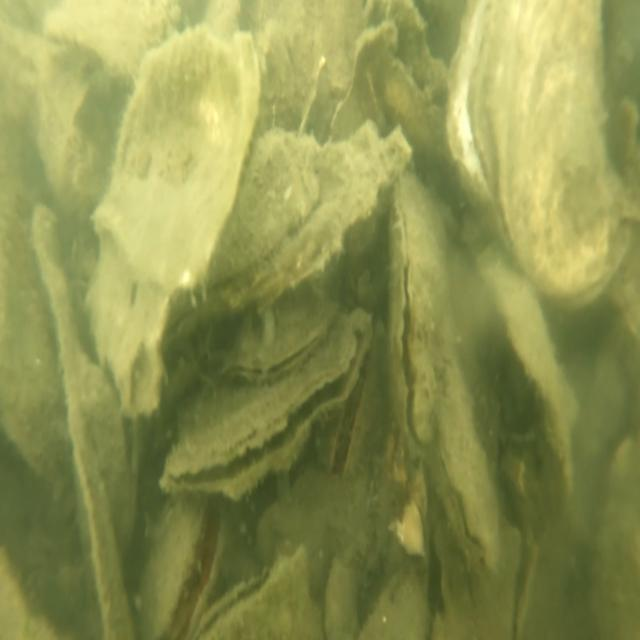Oyster-Closed: (445, 0, 634, 307), (222, 122, 409, 302), (424, 316, 501, 578), (192, 547, 309, 640), (225, 296, 332, 384)
Oyster-Indeterminate: (86, 22, 263, 436), (29, 205, 134, 640), (474, 244, 578, 491)
Oyster-Open: (158, 308, 374, 499), (380, 169, 440, 462), (132, 488, 222, 640), (325, 334, 376, 477)
